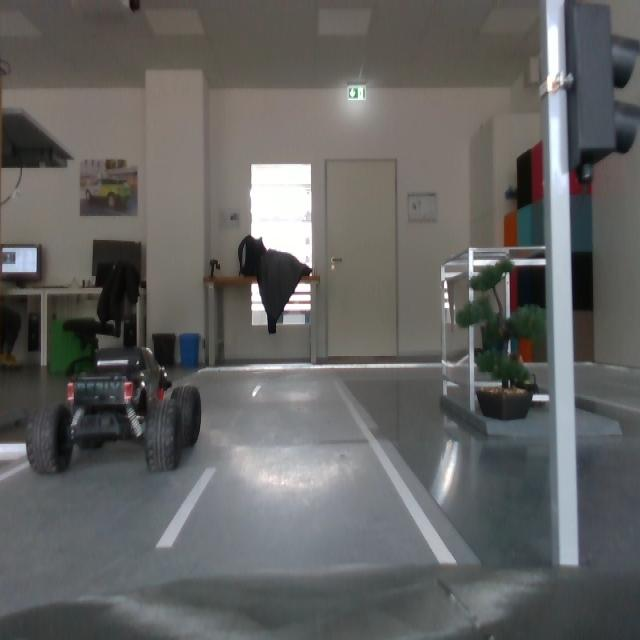car: (25, 342, 208, 480)
potted plant: (457, 257, 547, 392)
traffic light: (566, 1, 640, 182)
